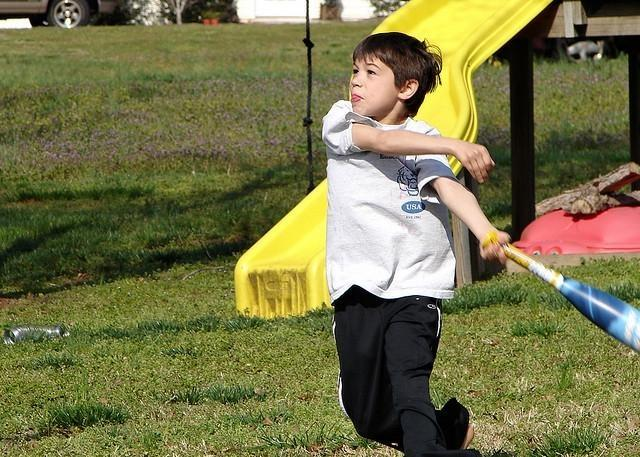car: (0, 0, 121, 28)
